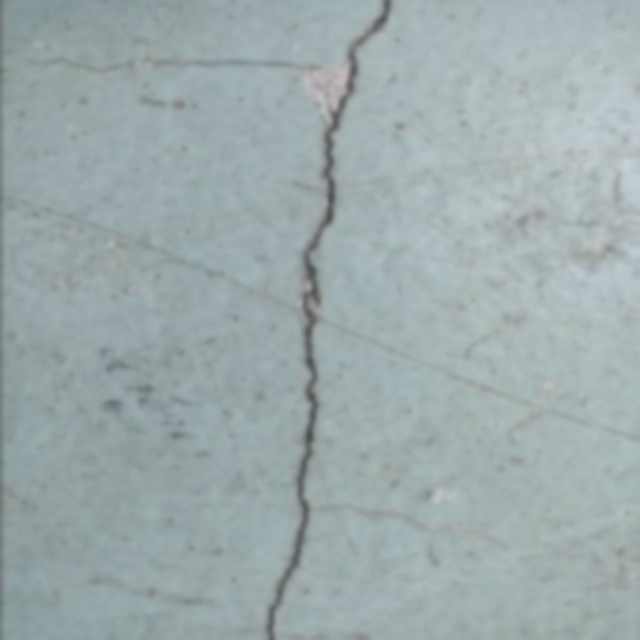SurfaceCrack: (231, 0, 440, 639)
